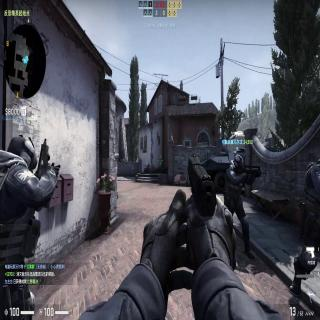CT-Head: (5, 135, 37, 171), (232, 156, 244, 171)
